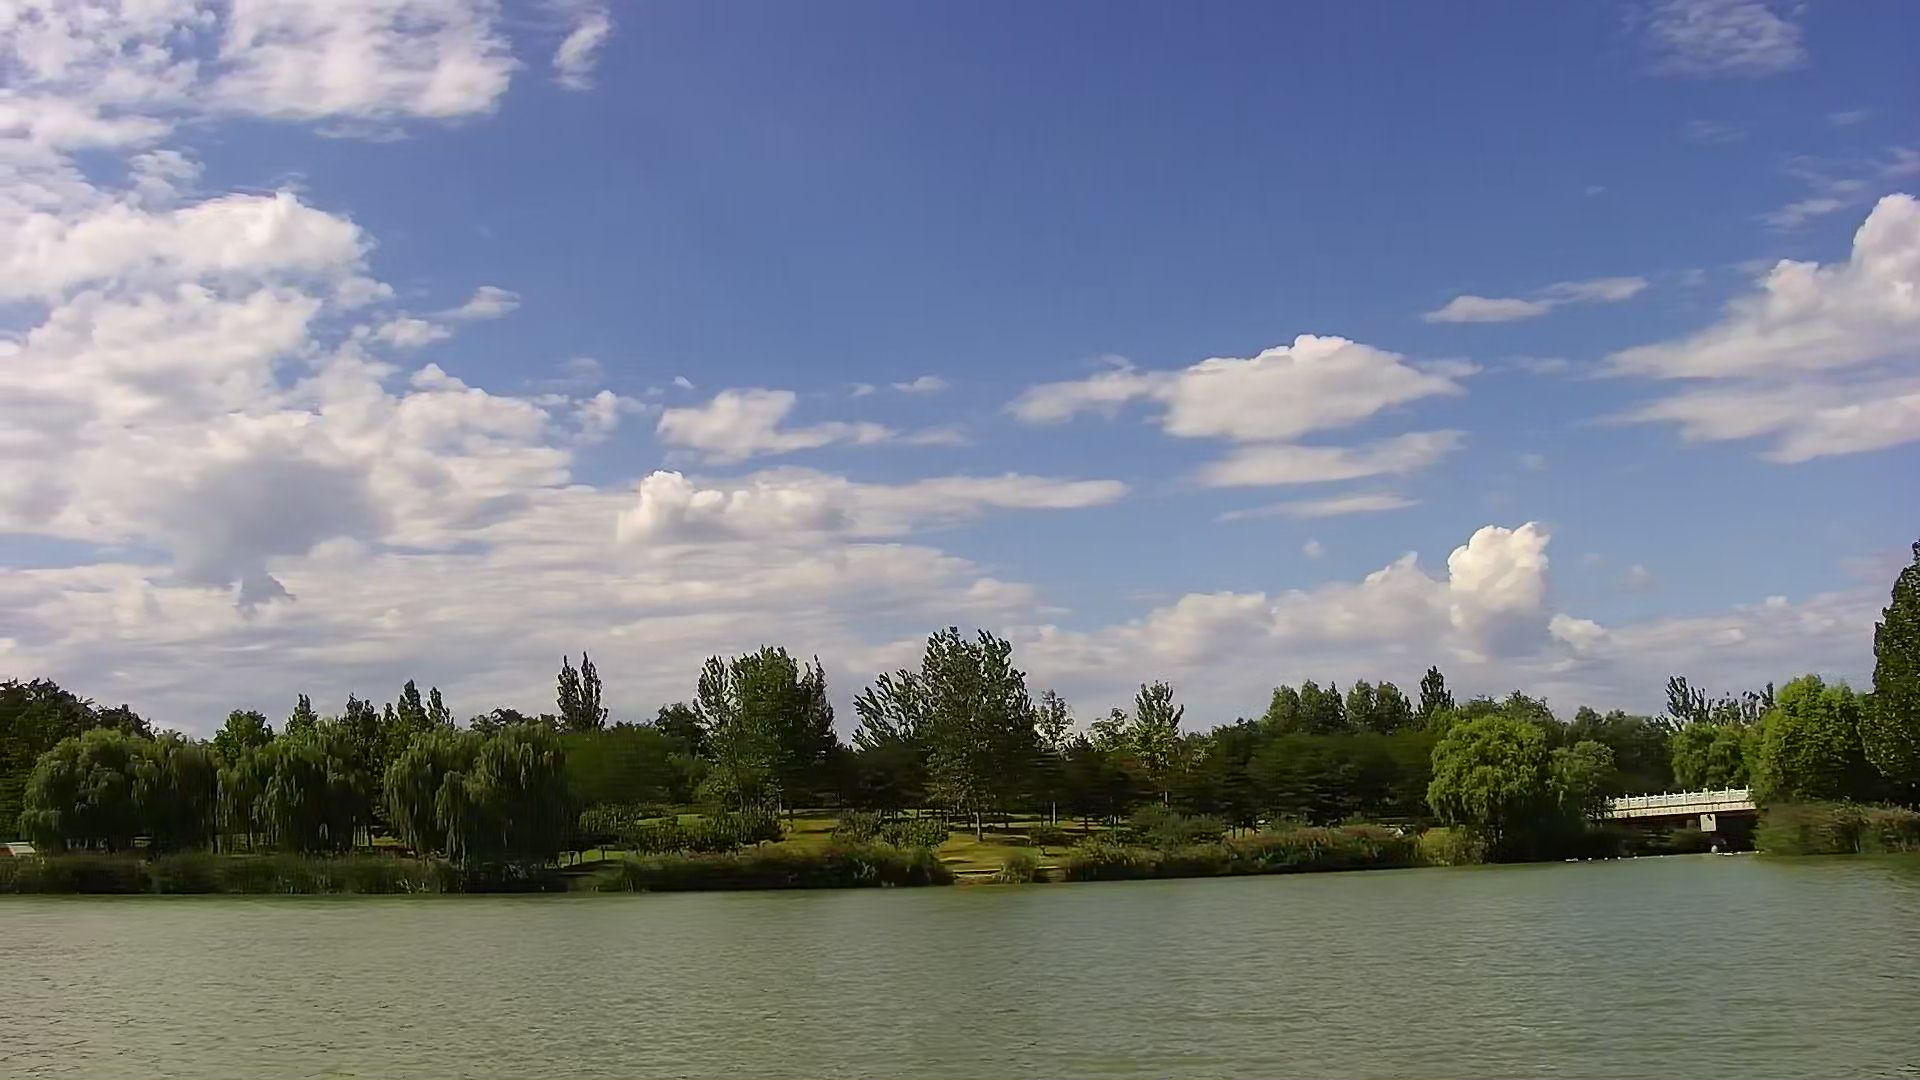bridge: (1611, 789, 1751, 856)
